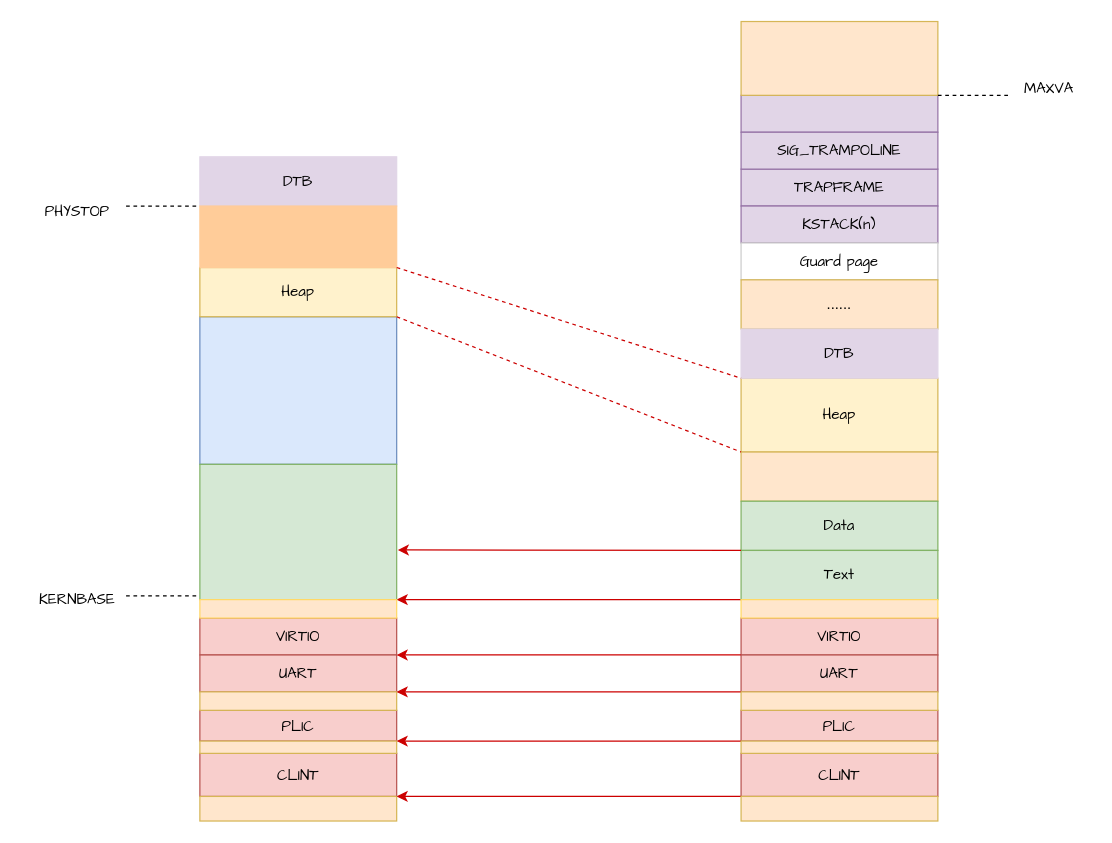
Image size: 1112x843. Some labels were removed from this diagram. The shapes that lost their labels are listed below. From the top down, each one's centre as x and y in pixels, then its label:
At [839,113]: "TRAMPOLINE".
At [298,236]: "Shared Mem".
At [298,389]: "Physical Mem".
At [298,531]: "Kernel".
